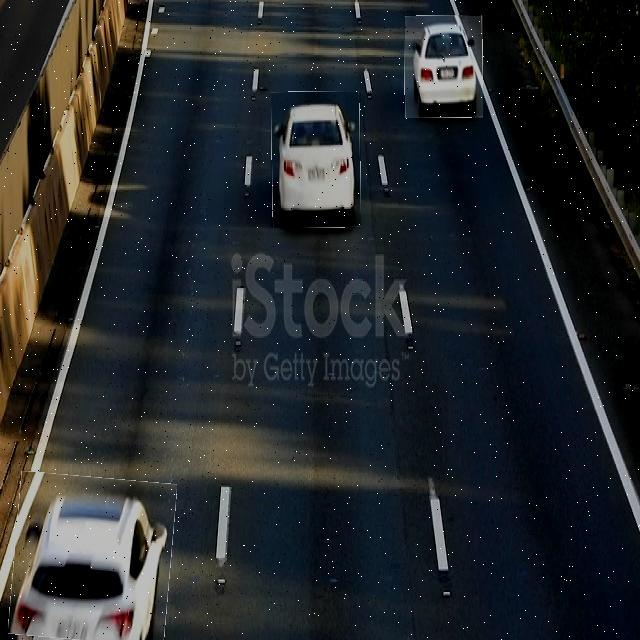Car: (11, 474, 174, 640), (271, 92, 361, 228), (405, 16, 483, 118)
